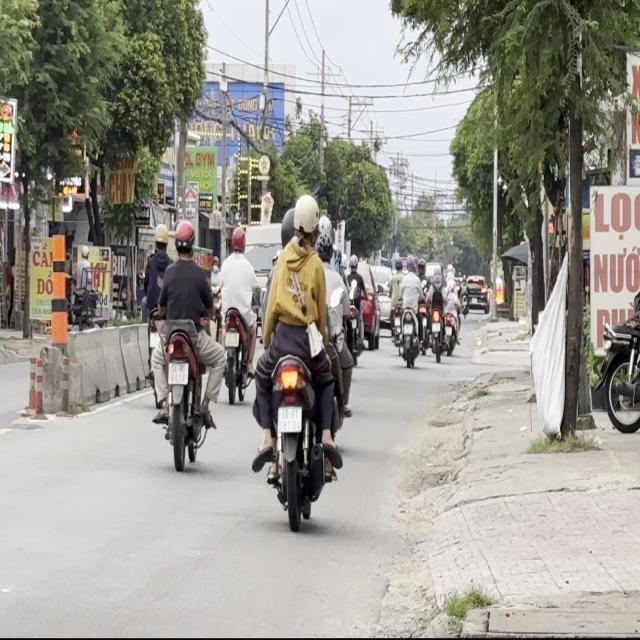helmet: (292, 192, 320, 247), (173, 217, 196, 255), (279, 206, 297, 248), (154, 222, 168, 250)
licenseplate: (250, 191, 350, 529), (149, 216, 220, 468)
nohelmet: (278, 405, 302, 432), (168, 361, 188, 384)
